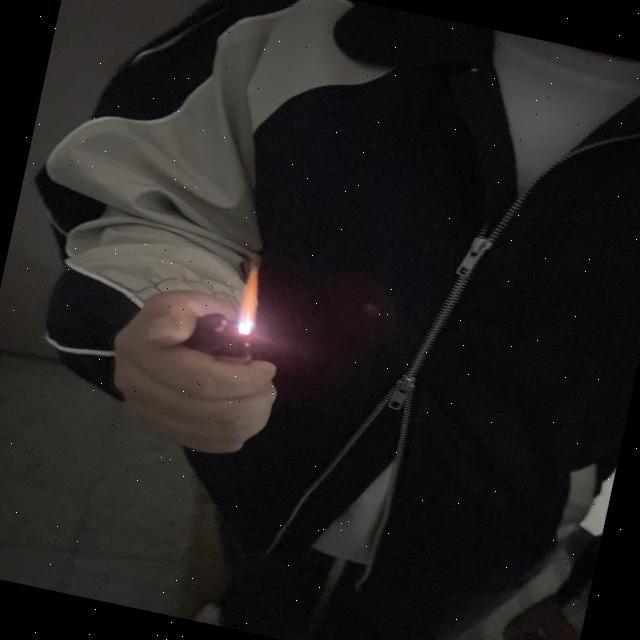fire: (231, 259, 271, 336)
